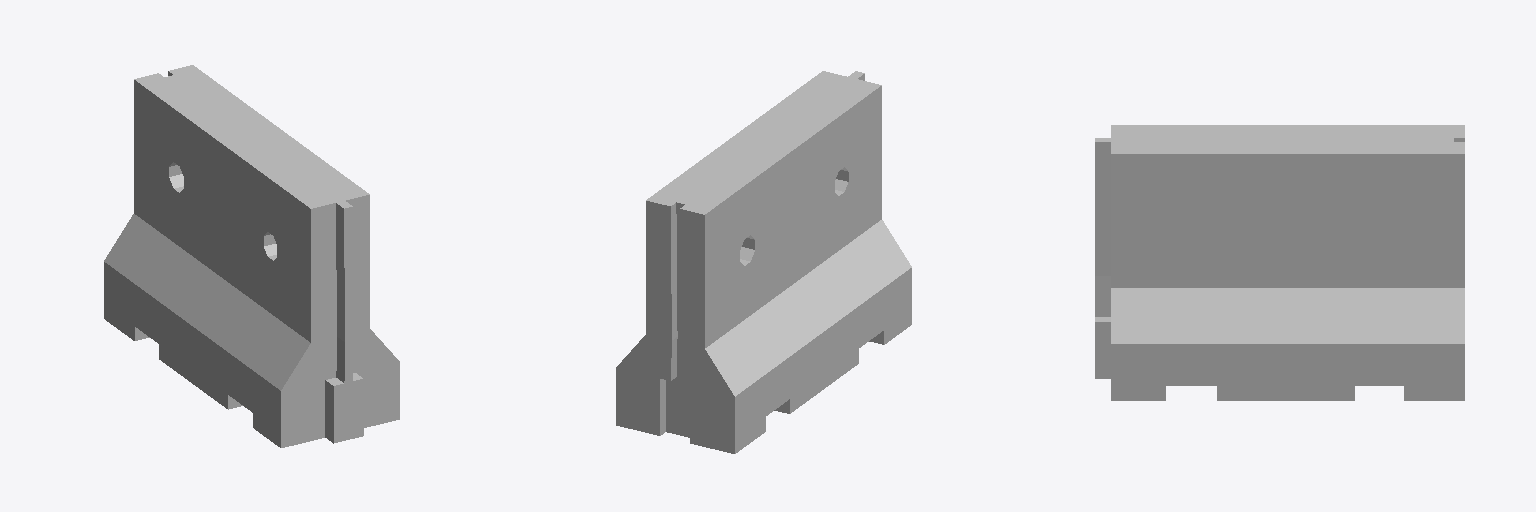
File: Roadblock.obj
3 views of the same model, side by side, from view 1: azimuth 30°, elevation 25°; view 2: azimuth 150°, elevation 25°; view 3: azimuth 270°, elevation 25° (orthographic).
Visible parts, largest first — view 1: Box001; view 2: Box001; view 3: Box001.
Boxes of the visible parts, x1,y1,x2,y2 form: Box001: [104, 65, 399, 447]; Box001: [616, 71, 911, 453]; Box001: [1095, 125, 1464, 400].
Size of the model in its own units: 20.35 by 37.92 by 54.81.